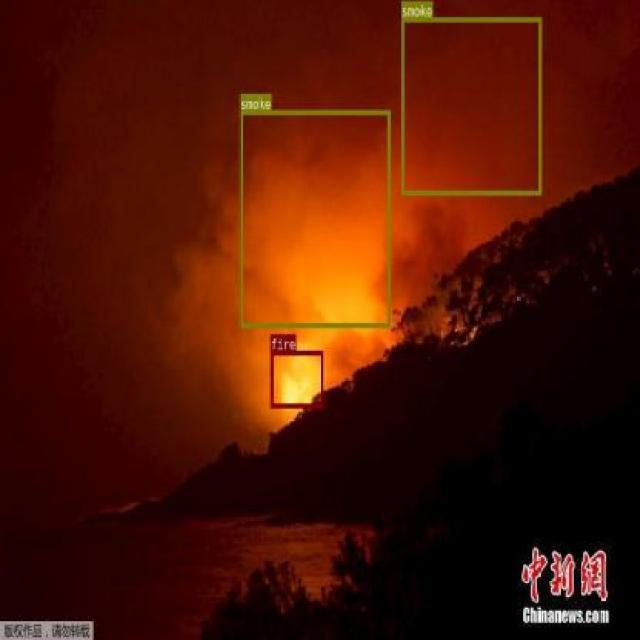Fire: (269, 350, 323, 408)
Smoke: (239, 109, 390, 326), (401, 16, 541, 195)
